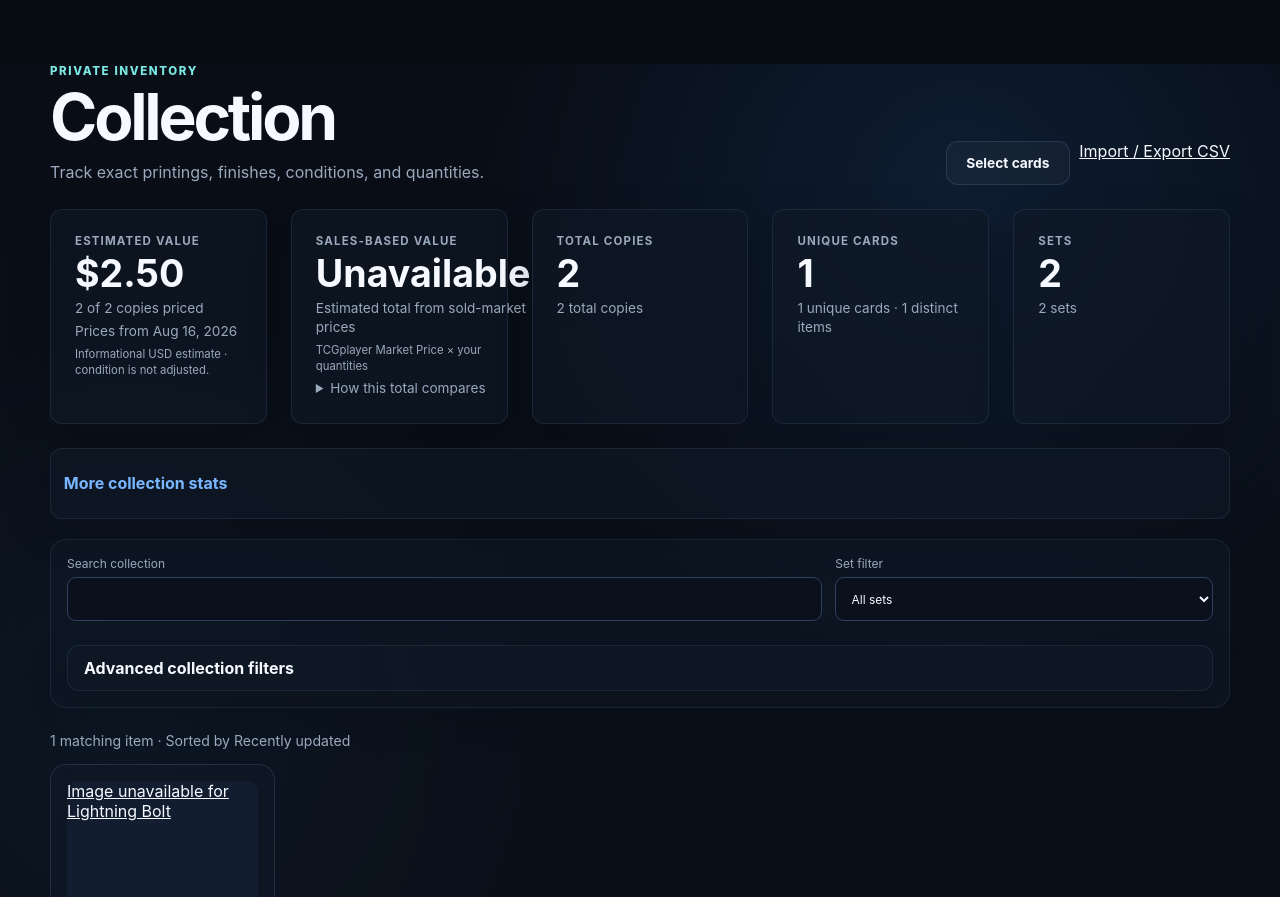
Test: groups equal set codes by game in the collection summary
Click the heading "More collection stats".
click(146, 483)  # box [64,473,228,493]
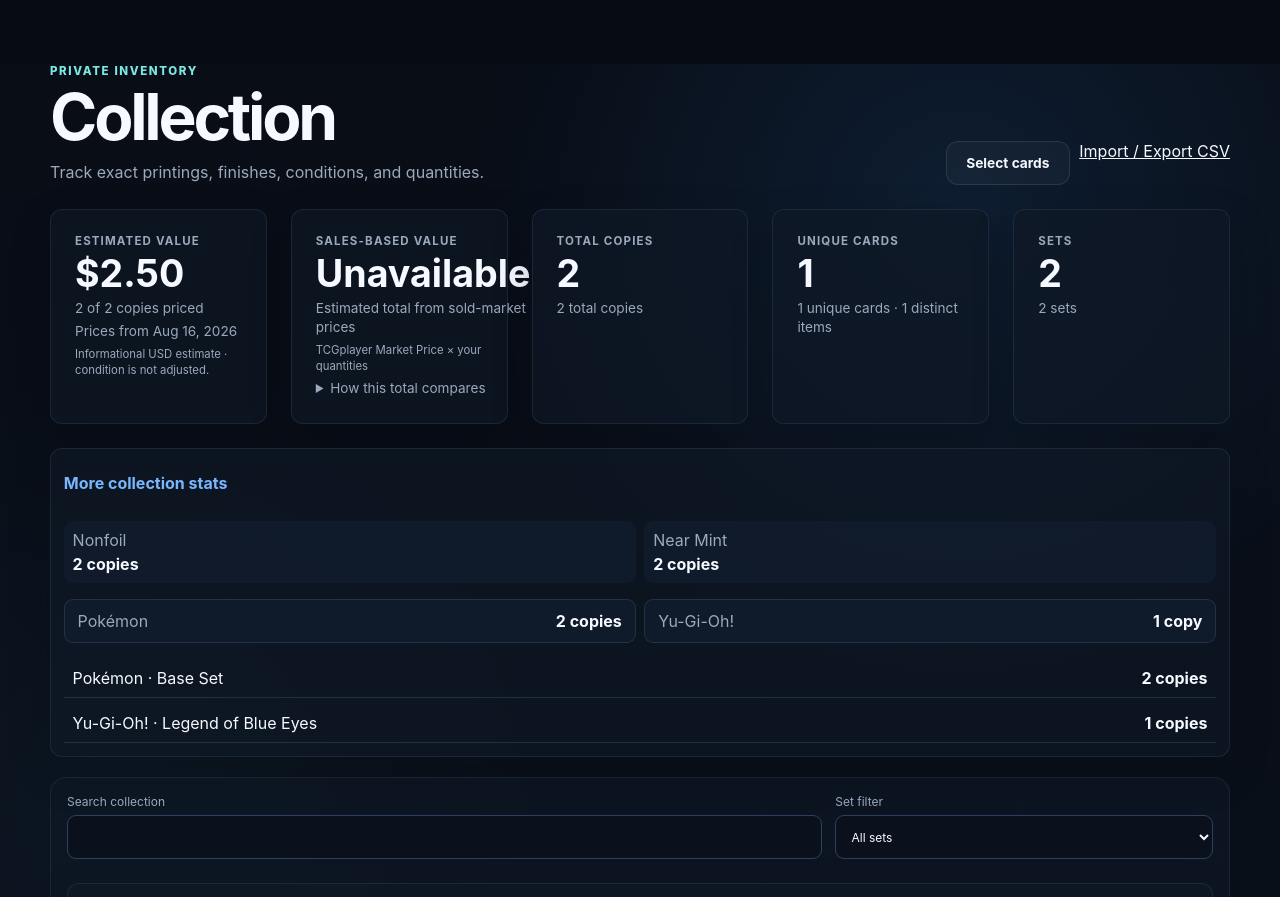
Check: the text "Pokémon · Base Set" is shown, box [73,668,223,688]
Check: the text "Yu-Gi-Oh! · Legend of Blue Eyes" is shown, box [73,713,317,733]
Check: the list named "Cards by game" reads "Pokémon 2 copies Yu-Gi-Oh! 1 copy", box [64,599,1216,643]
